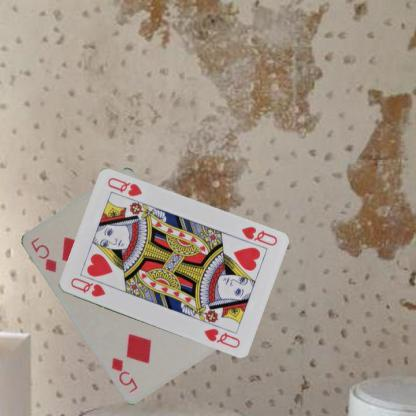5d: (27, 234, 58, 274)
Qh: (67, 275, 107, 298), (238, 224, 278, 247)
